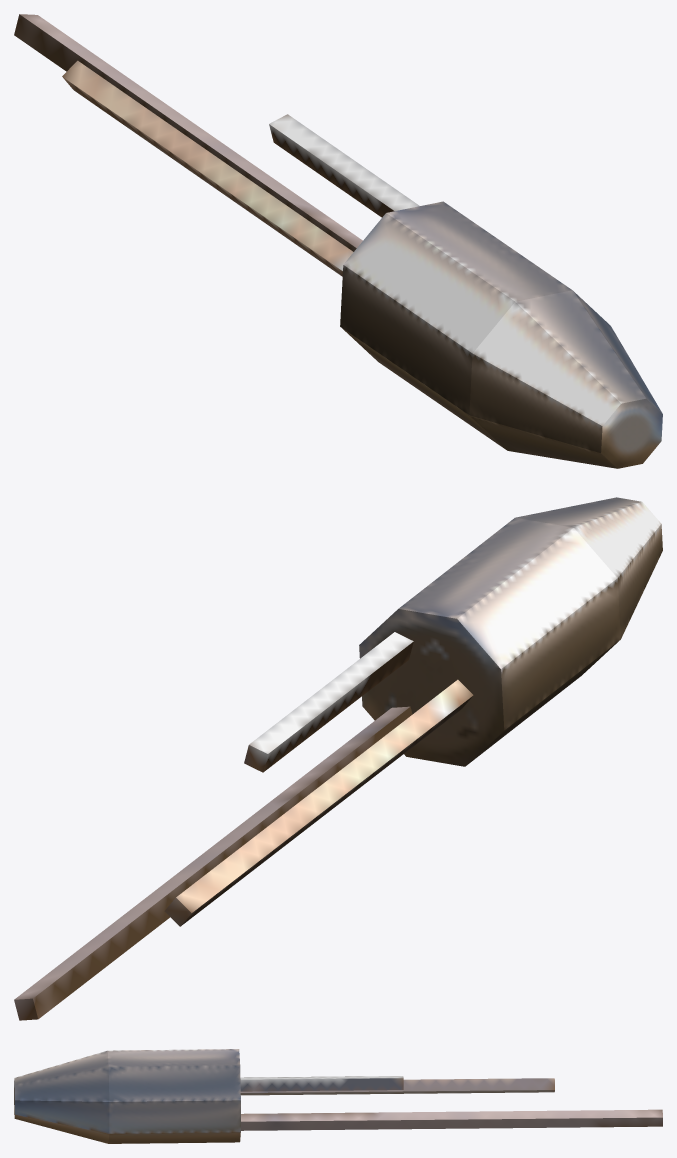
The picture shows the model from 3 angles, top to bottom: view 1: azimuth 30°, elevation 25°; view 2: azimuth 150°, elevation 25°; view 3: azimuth 270°, elevation 25°; orthographic projection. The views are drawn at different scales.
Parts seen in each view (by area): view 1: Bala_Cylinder.003, Estela_3_Cube.008, Estela_1_Cube.006, Estela_2_Cube.007; view 2: Bala_Cylinder.003, Estela_1_Cube.006, Estela_3_Cube.008, Estela_2_Cube.007; view 3: Bala_Cylinder.003, Estela_1_Cube.006, Estela_3_Cube.008, Estela_2_Cube.007.
Part boxes in pixels (x1,y1,x2,y2): Bala_Cylinder.003: (340, 201, 662, 468); Estela_3_Cube.008: (62, 60, 353, 276); Estela_1_Cube.006: (14, 14, 362, 251); Estela_2_Cube.007: (269, 114, 419, 217); Bala_Cylinder.003: (359, 497, 662, 766); Estela_1_Cube.006: (14, 706, 412, 1020); Estela_3_Cube.008: (164, 679, 473, 926); Estela_2_Cube.007: (244, 632, 413, 772); Bala_Cylinder.003: (14, 1049, 240, 1143); Estela_1_Cube.006: (241, 1109, 662, 1130); Estela_3_Cube.008: (240, 1078, 554, 1095); Estela_2_Cube.007: (240, 1076, 403, 1091).
Size of what is drawn, in the model's own units: 0.2757 by 0.2648 by 1.94.
